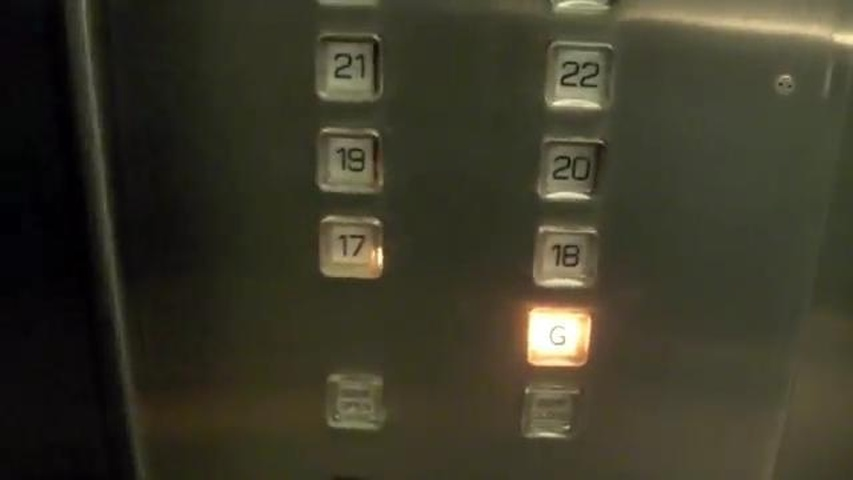17: (319, 215, 383, 280)
18: (532, 224, 601, 289)
19: (314, 126, 384, 195)
20: (538, 135, 608, 204)
21: (314, 32, 383, 102)
22: (545, 41, 616, 112)
G: (525, 306, 593, 368)
text_blur: (519, 383, 582, 446), (325, 373, 387, 430)
